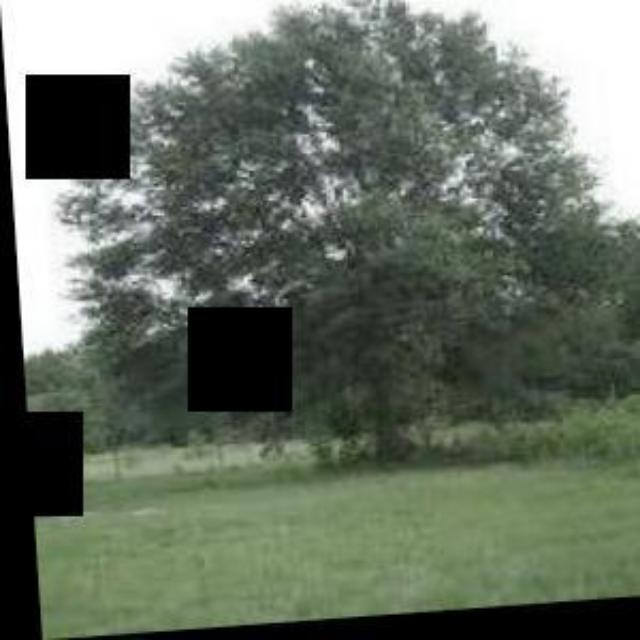tree: (43, 0, 612, 492)
